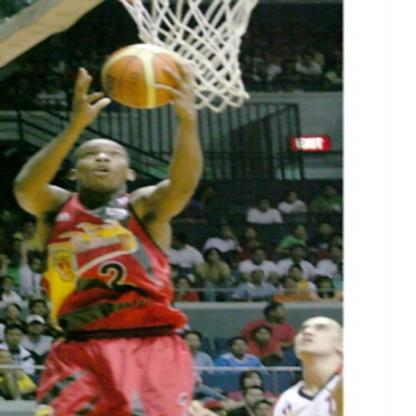Ball: (102, 44, 182, 108)
